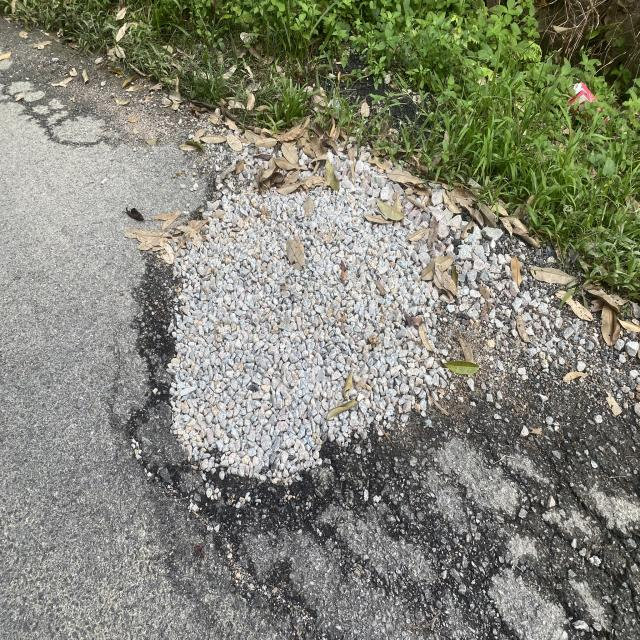Pothole: (95, 175, 465, 626)
